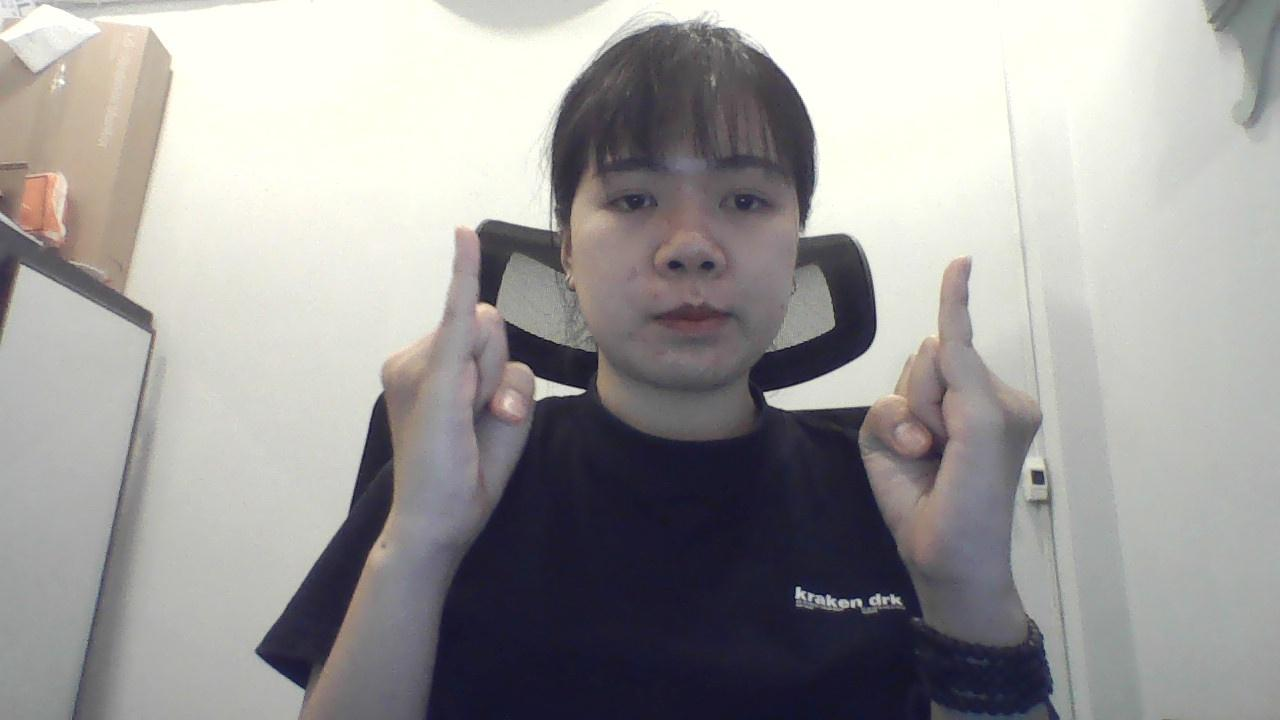I: (357, 221, 543, 593), (857, 242, 1047, 605)
